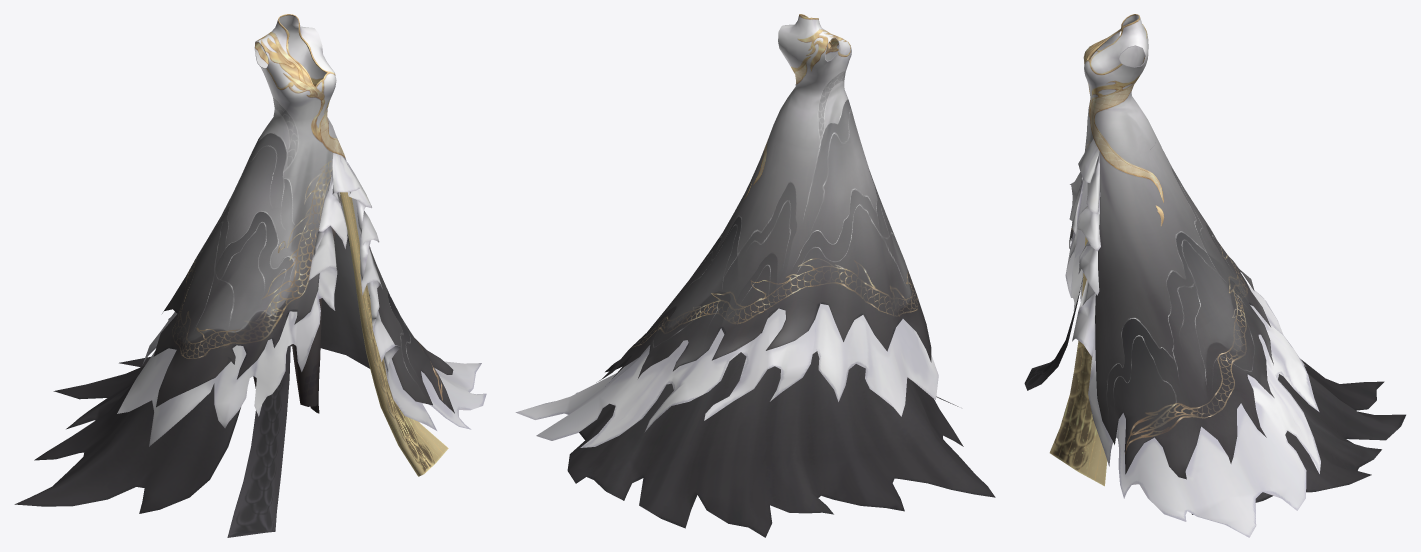
The model's file is HBottom_01500_me.fbx.
3 views of the same model, side by side, from view 1: azimuth 30°, elevation 25°; view 2: azimuth 150°, elevation 25°; view 3: azimuth 270°, elevation 25° (orthographic). The views are drawn at different scales.
Parts seen in each view (by area): view 1: Bottom; view 2: Bottom; view 3: Bottom.
Part boxes in pixels (<box>): Bottom: <box>14,14,486,537</box>; Bottom: <box>515,14,995,537</box>; Bottom: <box>1024,14,1405,537</box>.
Size of the model in its own units: 344 by 300 by 255.
